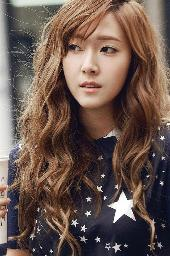face: (66, 12, 130, 108)
